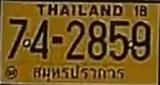2: (66, 20, 84, 59)
4: (29, 19, 47, 58)
5: (109, 20, 129, 60)
7: (8, 18, 26, 58)
8: (87, 20, 106, 59)
9: (130, 20, 150, 60)
SPK: (32, 63, 127, 83)
